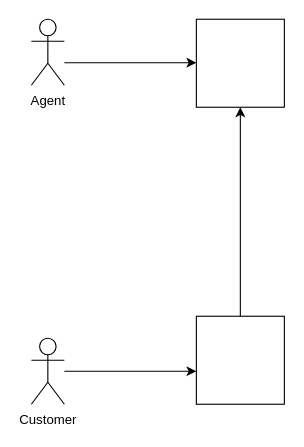
The diagram is 304 pixels wide and 447 high, and some of its shapes have lost their labels. The shapes that lost their labels are listed below. From the top down, each one's centre as x and y in pixels, then its label:
(239,62): AirBid Agent Application
(239,359): AirBid Customer Bid Application
